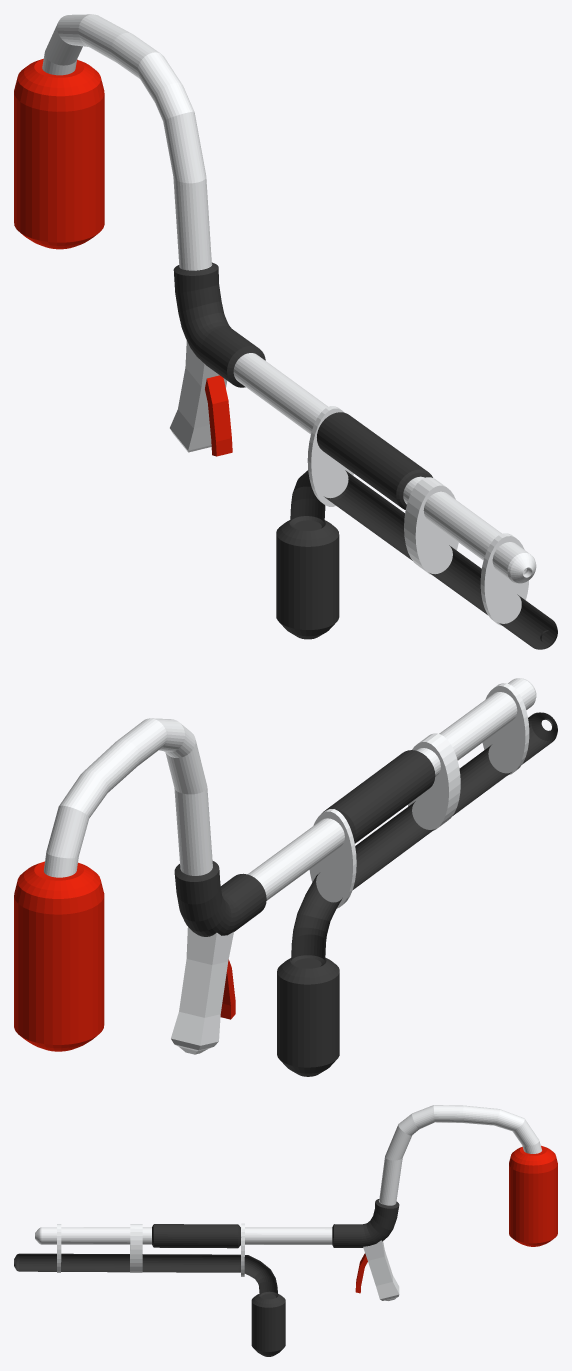
File: dispenser.fbx
3 renders of one model, top to bottom at view 1: azimuth 30°, elevation 25°; view 2: azimuth 150°, elevation 25°; view 3: azimuth 270°, elevation 25°, orthographic. The views are drawn at different scales.
Visible parts, largest first — view 1: Cylinder; view 2: Cylinder; view 3: Cylinder.
Part boxes in pixels (x1=…): Cylinder: x1=14, y1=14, x2=557, y2=649; Cylinder: x1=14, y1=678, x2=557, y2=1076; Cylinder: x1=14, y1=1105, x2=557, y2=1356.
Size of the model in its own units: 11.08 by 63.8 by 126.
